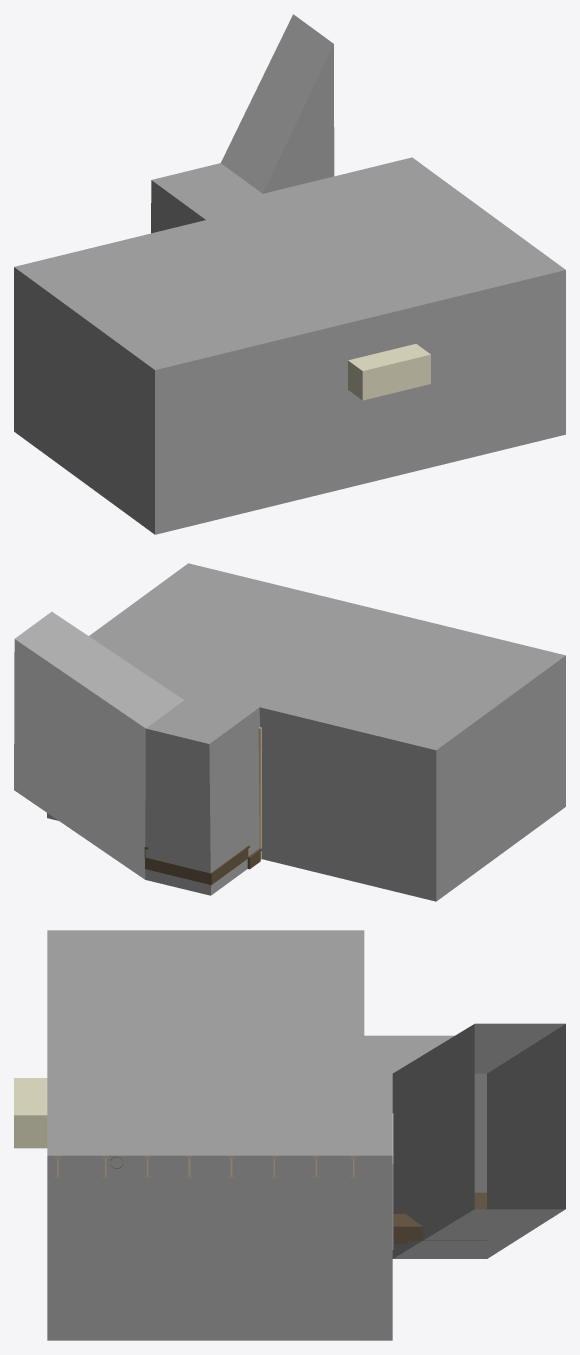
Rendered from basement draft 07.fbx.
3 renders of one model, top to bottom at view 1: azimuth 30°, elevation 25°; view 2: azimuth 150°, elevation 25°; view 3: azimuth 270°, elevation 25°, orthographic. The views are drawn at different scales.
Visible parts, largest first — view 1: Floor___Walls_x3_geo1, pCube64; view 2: Floor___Walls_x3_geo1, Stair_2_geo; view 3: Floor___Walls_x3_geo1, pCube64, stair_4_geo.
Boxes of the visible parts, x1,y1,x2,y2 form: Floor___Walls_x3_geo1: (14,14,565,534); pCube64: (348,344,430,400); Floor___Walls_x3_geo1: (14,563,565,901); Stair_2_geo: (145,845,249,885); Floor___Walls_x3_geo1: (47,930,565,1340); pCube64: (14,1078,47,1148); stair_4_geo: (393,1214,486,1240).
Bounding box in the file's own units: 205 × 125 × 212.
